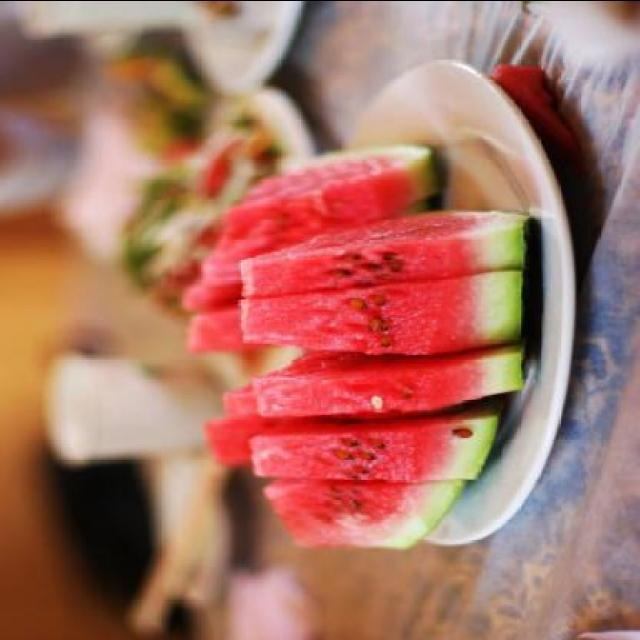Watermelon: (184, 138, 528, 550)
